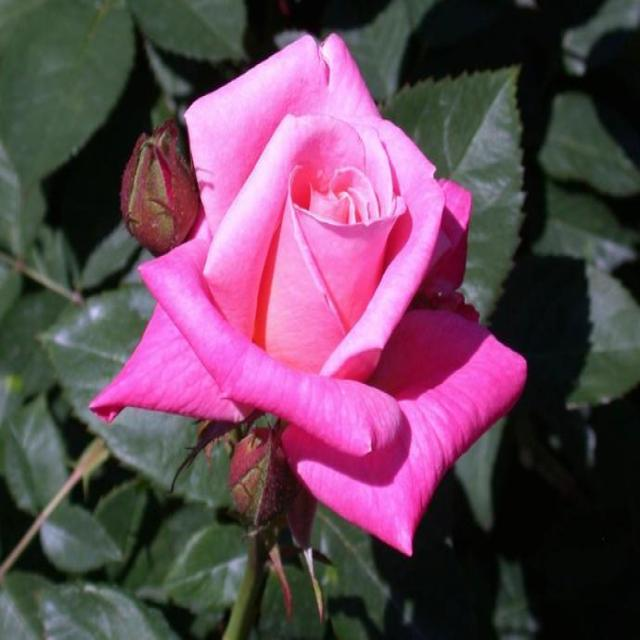rose: (89, 28, 529, 561)
